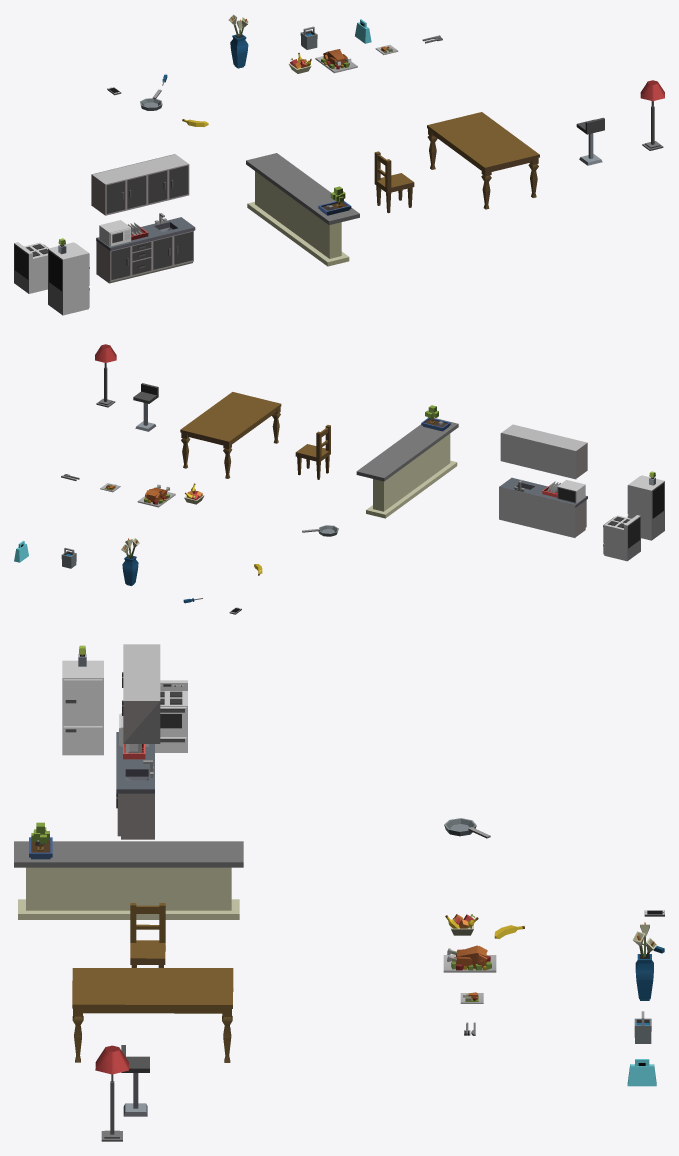
The model's file is Kitchen (1)_subset.FBX.
3 renders of one model, top to bottom at view 1: azimuth 30°, elevation 25°; view 2: azimuth 150°, elevation 25°; view 3: azimuth 270°, elevation 25°, orthographic. The views are drawn at different scales.
Parts seen in each view (by area): view 1: Prop_Cupboards_Black (7), Prop_Bar_Bench (2), Prop_Table_03 (1), Prop_Fridge_01, Prop_Oven_White, Prop_Chair_06 (3), Prop_Flower_Pot_01 (1), Prop_Lamp_06 (2), Prop_Bar_Stool (6), Prop_Turkey_02 (1); view 2: Prop_Bar_Bench (2), Prop_Cupboards_Black (7), Prop_Table_03 (1), Cube, Prop_Fridge_01, Prop_Oven_White, Prop_Chair_06 (3), Prop_Bar_Stool (6), Prop_Flower_Pot_01 (1), Prop_Lamp_06 (2), Prop_Turkey_02 (1); view 3: Prop_Bar_Bench (2), Prop_Table_03 (1), Prop_Cupboards_Black (7), Prop_Fridge_01, Prop_Oven_White, Prop_Chair_06 (3), Prop_Lamp_06 (2), Prop_Turkey_02 (1), Prop_Flower_Pot_01 (1), Prop_Bar_Stool (6).
Boxes of the visible parts, x1=… form: Prop_Cupboards_Black (7): x1=92, y1=154, x2=195, y2=283; Prop_Bar_Bench (2): x1=246, y1=153, x2=359, y2=266; Prop_Table_03 (1): x1=427, y1=112, x2=539, y2=209; Prop_Fridge_01: x1=48, y1=238, x2=89, y2=315; Prop_Oven_White: x1=14, y1=242, x2=48, y2=293; Prop_Chair_06 (3): x1=374, y1=151, x2=414, y2=213; Prop_Flower_Pot_01 (1): x1=228, y1=14, x2=248, y2=68; Prop_Lamp_06 (2): x1=640, y1=80, x2=664, y2=150; Prop_Bar_Stool (6): x1=576, y1=117, x2=604, y2=165; Prop_Turkey_02 (1): x1=315, y1=49, x2=357, y2=73; Prop_Bar_Bench (2): x1=356, y1=405, x2=458, y2=518; Prop_Cupboards_Black (7): x1=499, y1=424, x2=587, y2=537; Prop_Table_03 (1): x1=180, y1=392, x2=281, y2=478; Cube: x1=501, y1=433, x2=576, y2=479; Prop_Fridge_01: x1=627, y1=471, x2=664, y2=540; Prop_Oven_White: x1=603, y1=515, x2=640, y2=561; Prop_Chair_06 (3): x1=295, y1=425, x2=330, y2=479; Prop_Bar_Stool (6): x1=133, y1=383, x2=158, y2=431; Prop_Flower_Pot_01 (1): x1=121, y1=538, x2=139, y2=585; Prop_Lamp_06 (2): x1=95, y1=344, x2=116, y2=407; Prop_Turkey_02 (1): x1=137, y1=484, x2=175, y2=507; Prop_Bar_Bench (2): x1=14, y1=822, x2=243, y2=919; Prop_Table_03 (1): x1=72, y1=968, x2=233, y2=1062; Prop_Cupboards_Black (7): x1=116, y1=644, x2=160, y2=839; Prop_Fridge_01: x1=62, y1=645, x2=103, y2=755; Prop_Oven_White: x1=155, y1=680, x2=187, y2=752; Prop_Chair_06 (3): x1=130, y1=903, x2=165, y2=967; Prop_Lamp_06 (2): x1=95, y1=1045, x2=128, y2=1141; Prop_Turkey_02 (1): x1=443, y1=945, x2=496, y2=972; Prop_Flower_Pot_01 (1): x1=633, y1=922, x2=657, y2=1000; Prop_Bar_Stool (6): x1=121, y1=1045, x2=149, y2=1116.
Size of the model in its own units: 24027 by 3738 by 15737.
Materials: 3 (2 with a texture image).
